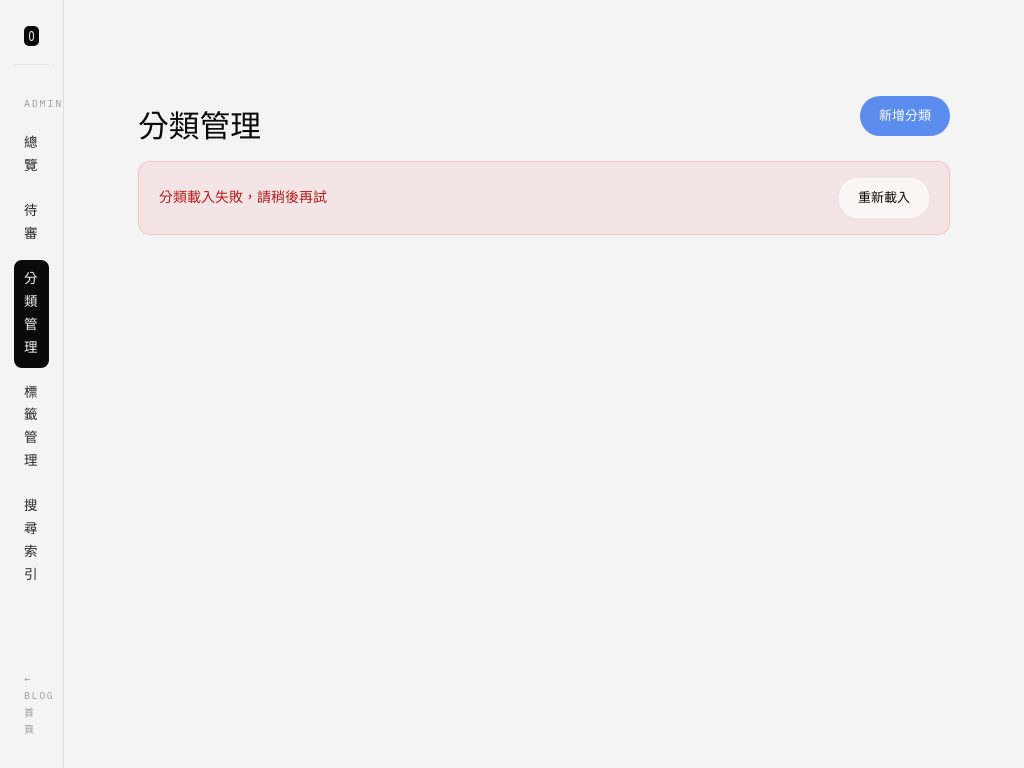
Test case: AdminCategoriesView › 初始載入 › 載入失敗後點擊重試按鈕會重新呼叫 getCategoriesFull，成功後離開錯誤狀態
Expected: the message "分類載入失敗，請稍後再試 重新載入" is shown, left=138, top=161, right=950, bottom=235
Click the button with test id "admin-categories-retry-btn" at (884, 198), box left=839, top=178, right=929, bottom=218
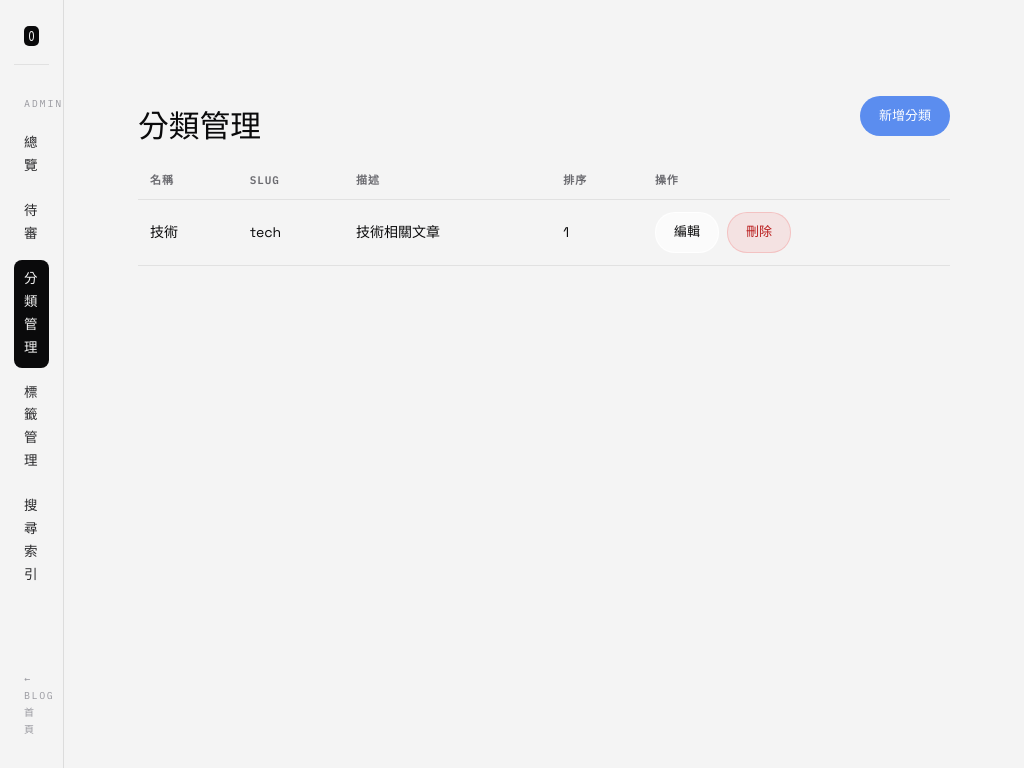
Expected: the message with test id "admin-categories-error" is gone
Expected: the row with test id "admin-categories-row-cat-uuid-1" is shown, left=138, top=200, right=950, bottom=266
